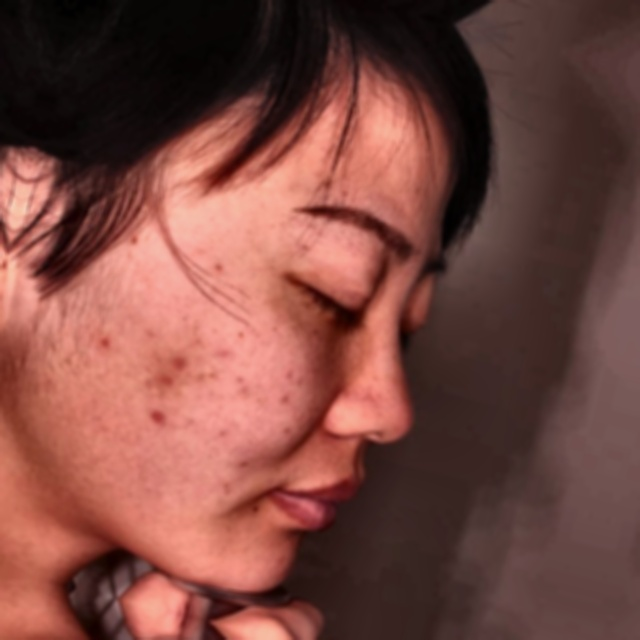comedone: (139, 337, 191, 395), (134, 404, 179, 441), (88, 327, 117, 356)
